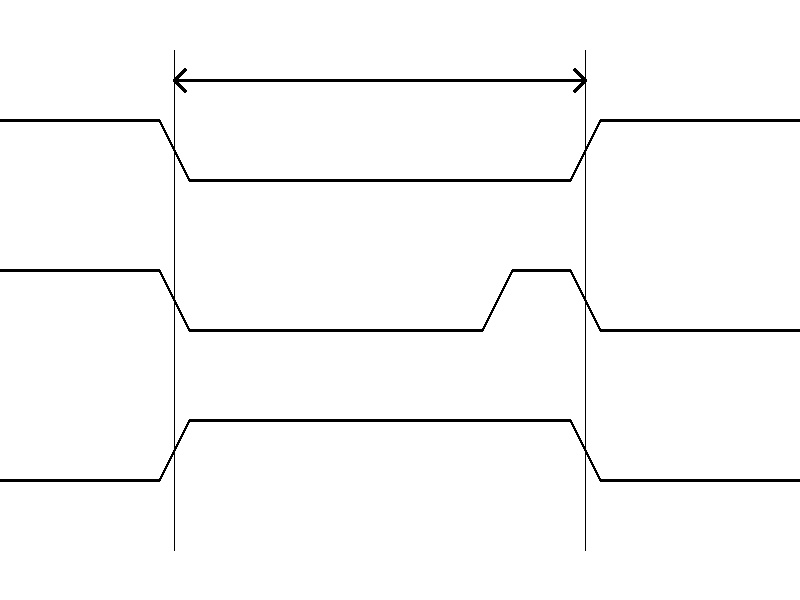double_arrow: (174, 65, 585, 95)
